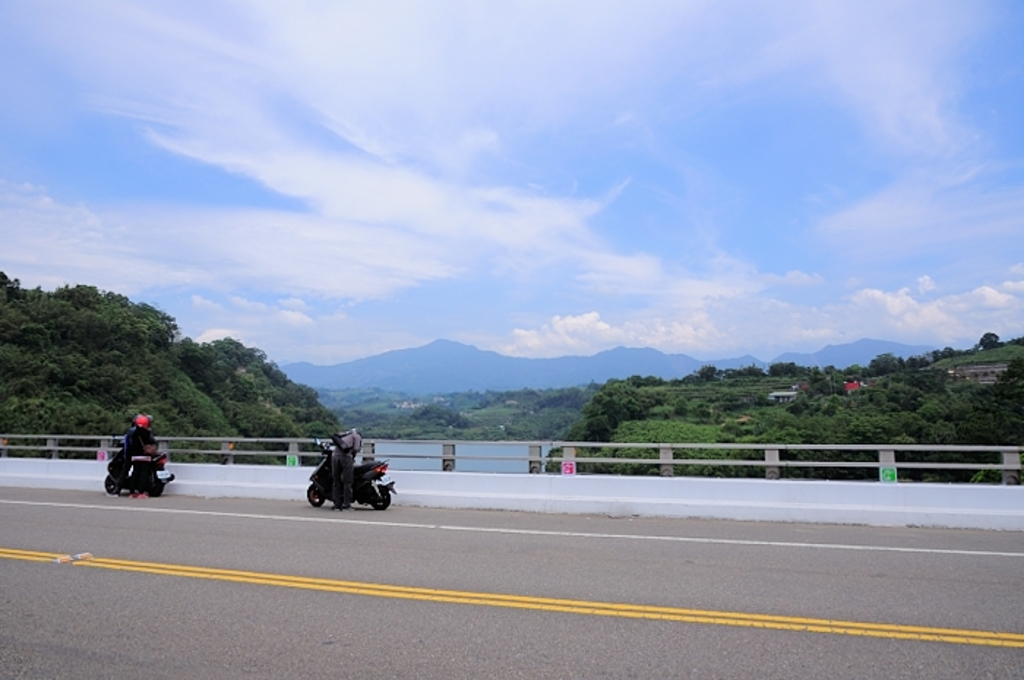Motorcycle: (296, 443, 384, 516)
